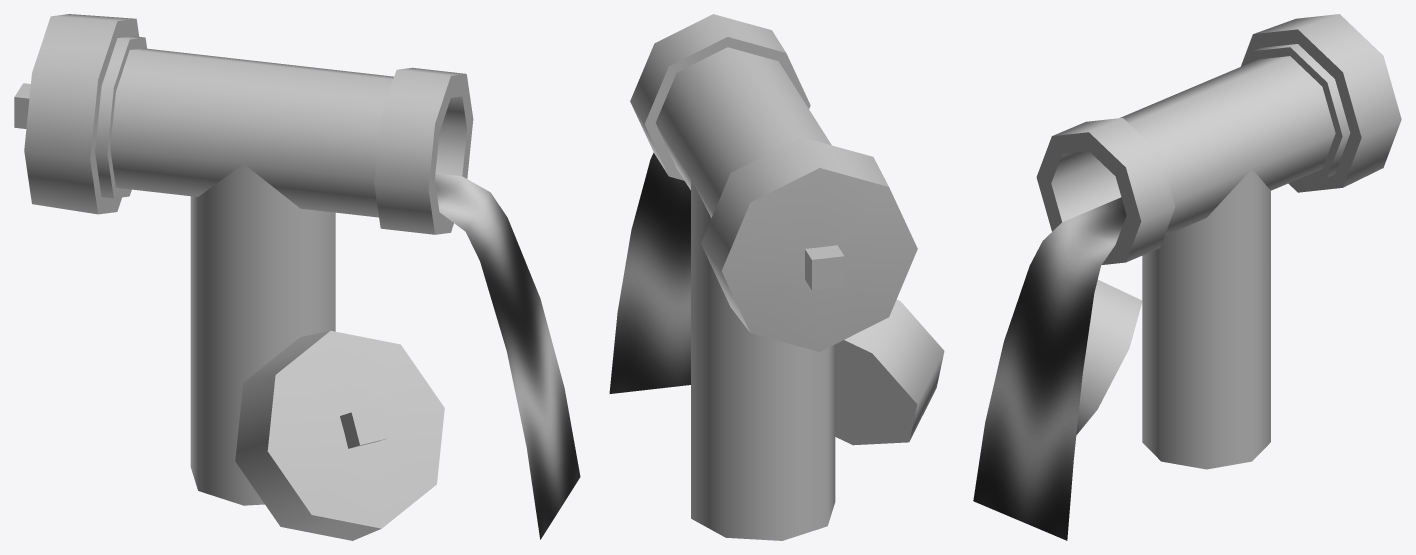
Rendered from SLIPPERY_SURFACE_PIPE.fbx.
3 renders of one model, left to right at view 1: azimuth 30°, elevation 25°; view 2: azimuth 150°, elevation 25°; view 3: azimuth 270°, elevation 25°, orthographic. The views are drawn at different scales.
Parts seen in each view (by area): view 1: polySurface311; view 2: polySurface311; view 3: polySurface311.
Boxes of the visible parts, x1,y1,x2,y2 form: polySurface311: [14, 14, 580, 540]; polySurface311: [609, 14, 944, 540]; polySurface311: [973, 14, 1401, 540].
Bounding box in the file's own units: 2.45 × 2.36 × 2.45.
